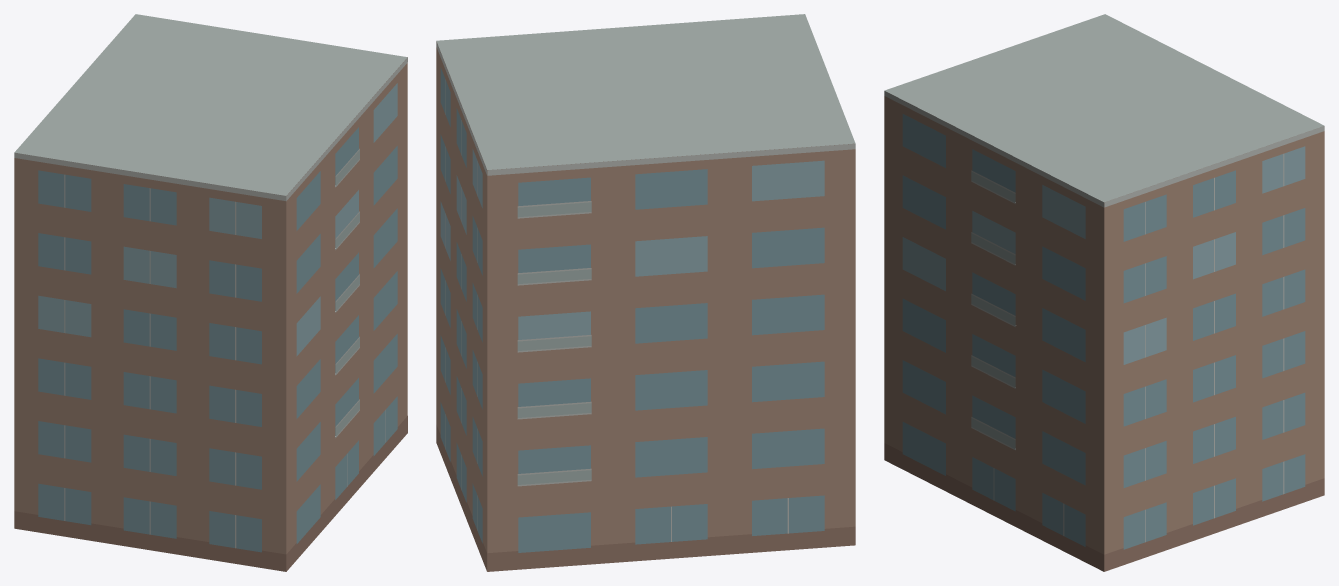
Rendered from survey-upis-32845704.glb.
3 renders of one model, left to right at view 1: azimuth 30°, elevation 25°; view 2: azimuth 150°, elevation 25°; view 3: azimuth 270°, elevation 25°, orthographic. The views are drawn at different scales.
Parts seen in each view (by area): view 1: survey-upis-32845704.tmp; view 2: survey-upis-32845704.tmp; view 3: survey-upis-32845704.tmp.
Part boxes in pixels (x1,y1,x2,y2): survey-upis-32845704.tmp: [14, 14, 407, 571]; survey-upis-32845704.tmp: [436, 14, 855, 571]; survey-upis-32845704.tmp: [884, 14, 1324, 571].
Size of the model in its own units: 18.93 by 17.3 by 18.7.
